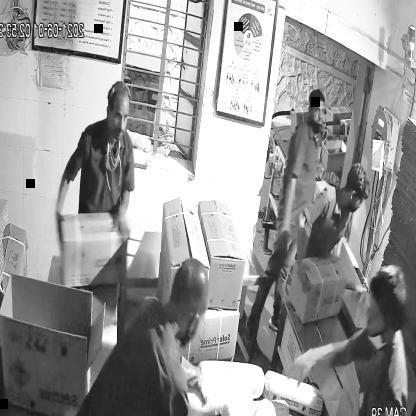no_goggles: (105, 104, 134, 128)
